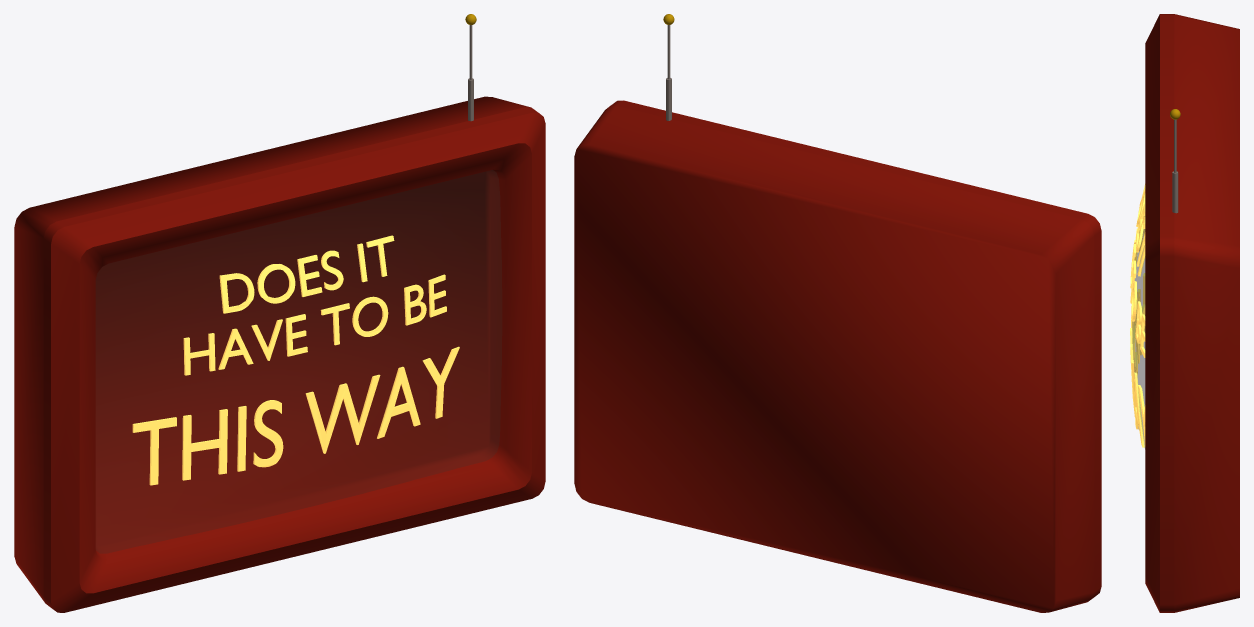
The picture shows the model from 3 angles, left to right: view 1: azimuth 30°, elevation 25°; view 2: azimuth 150°, elevation 25°; view 3: azimuth 270°, elevation 25°; orthographic projection. The views are drawn at different scales.
Visible parts, largest first — view 1: Plane.007; view 2: Plane.007; view 3: Plane.007.
Part boxes in pixels (<box>): Plane.007: <box>14,14,545,612</box>; Plane.007: <box>574,14,1101,612</box>; Plane.007: <box>1130,14,1239,612</box>.
Size of the model in its own units: 2.32 by 2.2 by 0.4605.
